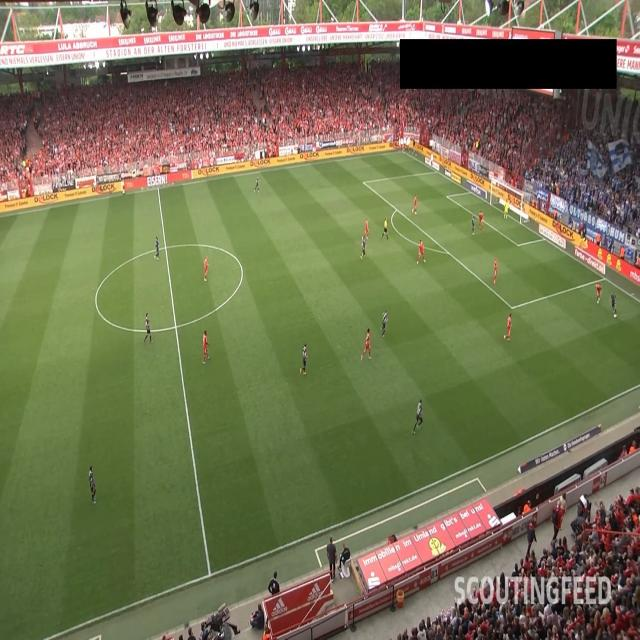ball: (614, 313, 616, 319)
